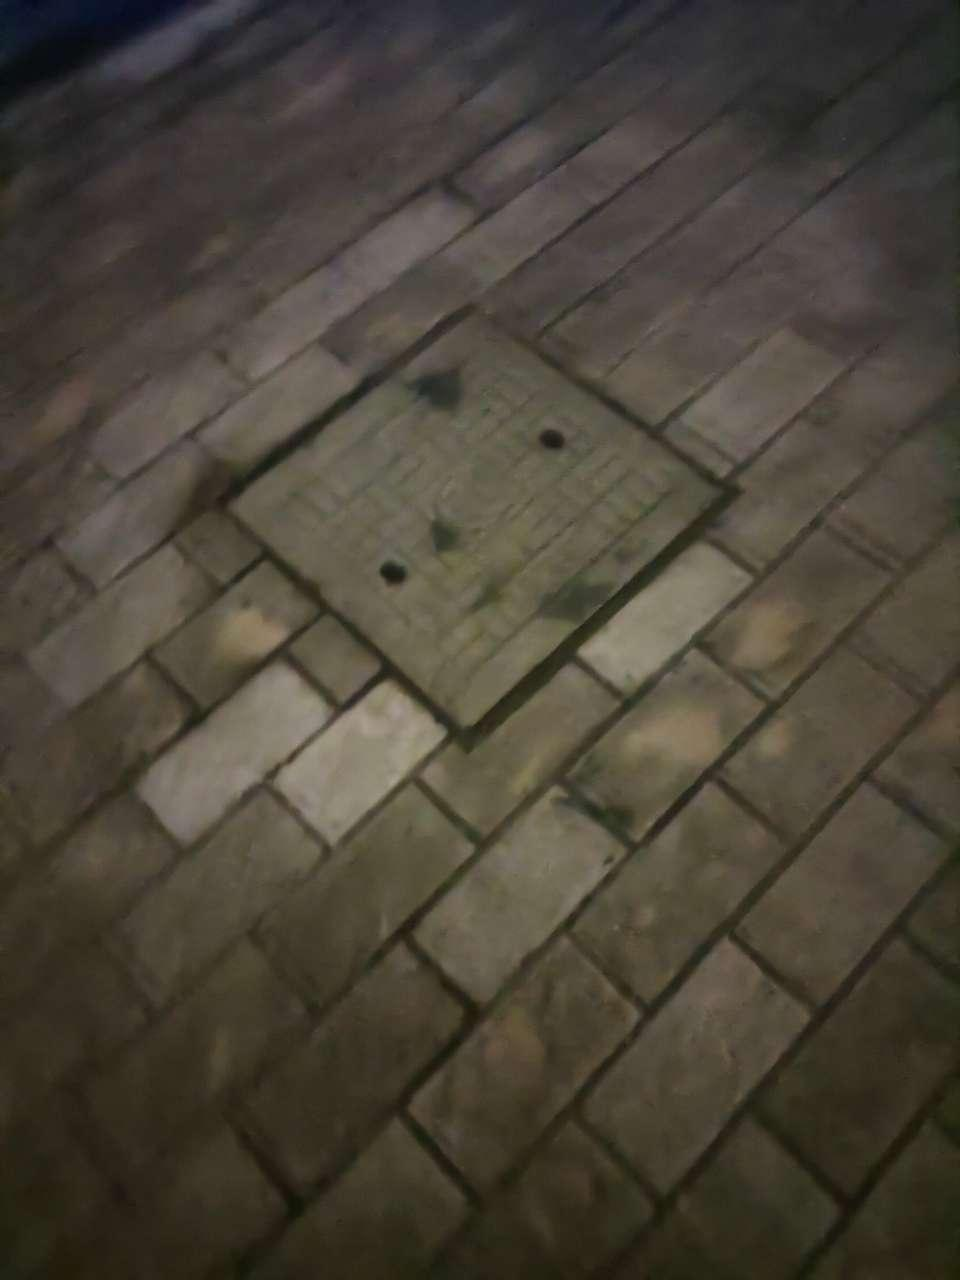wellcover: (226, 283, 758, 756)
